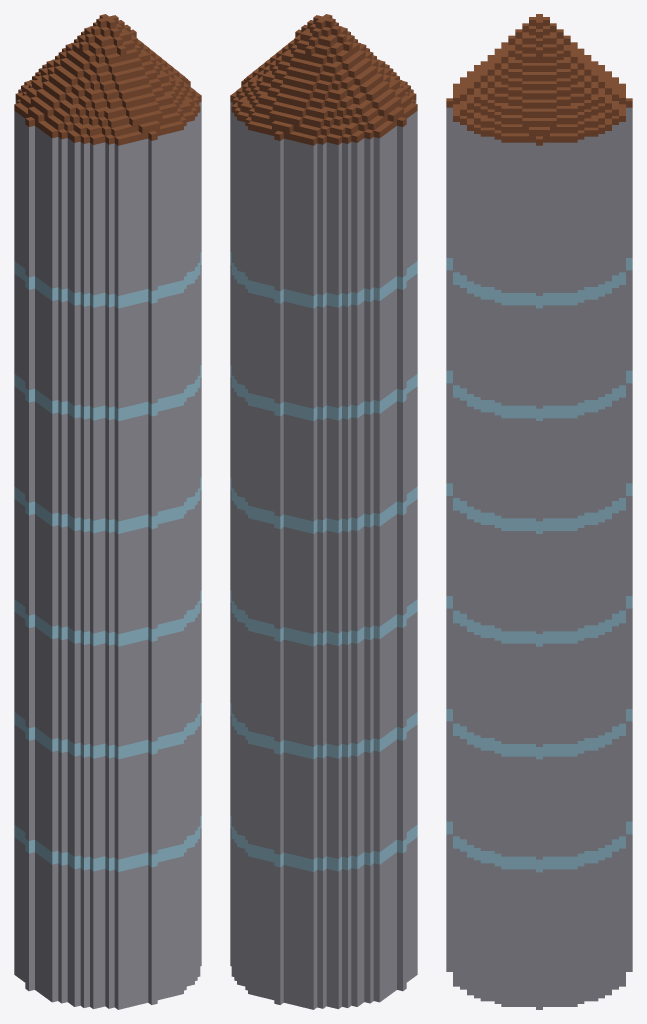
Rendered from tower.obj.
3 renders of one model, left to right at view 1: azimuth 30°, elevation 25°; view 2: azimuth 150°, elevation 25°; view 3: azimuth 270°, elevation 25°, orthographic.
Bounding box in the file's own units: 2.7 × 15.2 × 2.7.
1 material, 1 textured.
